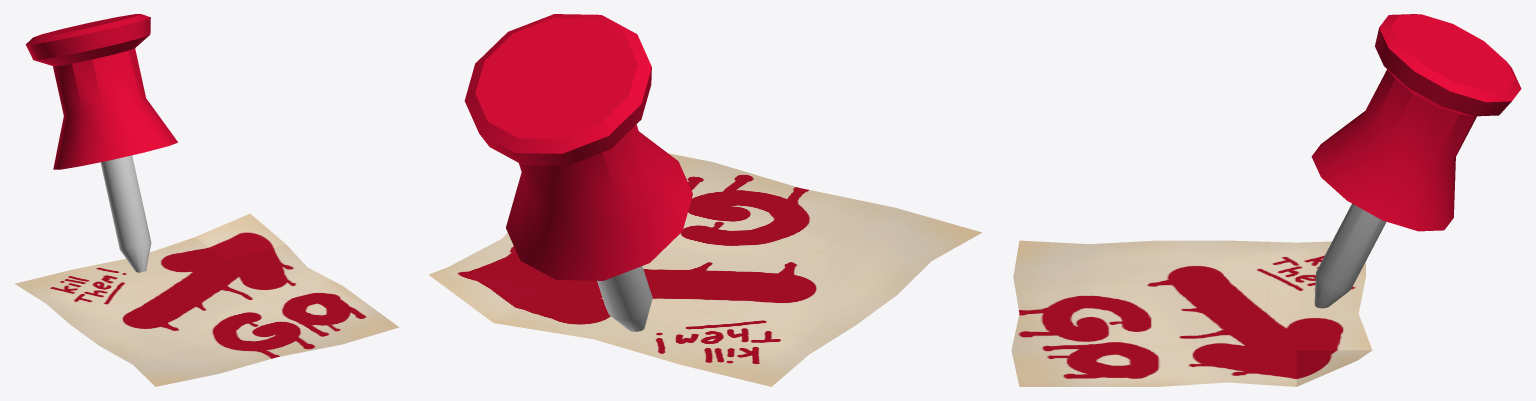
The model's file is ArrowSign-1.fbx.
The picture shows the model from 3 angles, left to right: view 1: azimuth 30°, elevation 25°; view 2: azimuth 150°, elevation 25°; view 3: azimuth 270°, elevation 25°; orthographic projection. The views are drawn at different scales.
Parts seen in each view (by area): view 1: Paper, PushPin; view 2: Paper, PushPin; view 3: Paper, PushPin.
Part boxes in pixels (x1,y1,x2,y2): Paper: (14,213,399,386); PushPin: (25,14,177,272); Paper: (429,153,981,386); PushPin: (464,14,692,331); Paper: (1011,240,1372,386); PushPin: (1311,14,1521,308).
Size of the model in its own units: 200 by 180 by 294.
